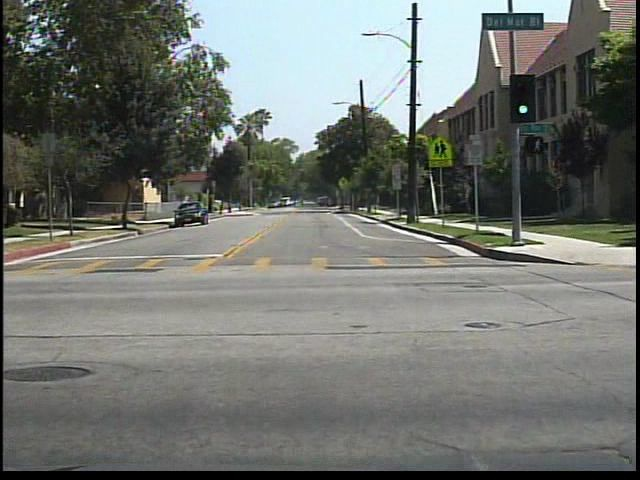person: (295, 192, 310, 210)
